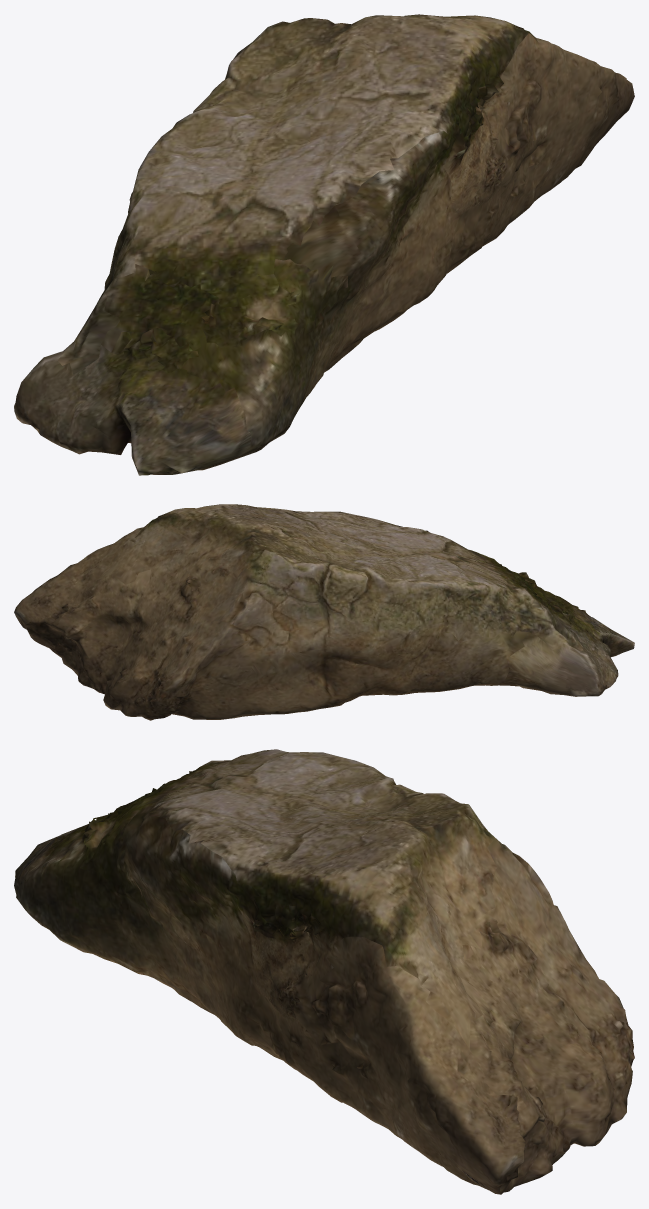
File: stone_flat.glb
The picture shows the model from 3 angles, top to bottom: view 1: azimuth 30°, elevation 25°; view 2: azimuth 150°, elevation 25°; view 3: azimuth 270°, elevation 25°; orthographic projection. The views are drawn at different scales.
Parts seen in each view (by area): view 1: stone_flat; view 2: stone_flat; view 3: stone_flat.
Part boxes in pixels (box(x1,y1,x2,y2)): stone_flat: box(14, 14, 634, 475); stone_flat: box(14, 504, 634, 720); stone_flat: box(14, 749, 634, 1194).
Size of the model in its own units: 0.115 by 0.036 by 0.079.
1 material, 1 textured.
